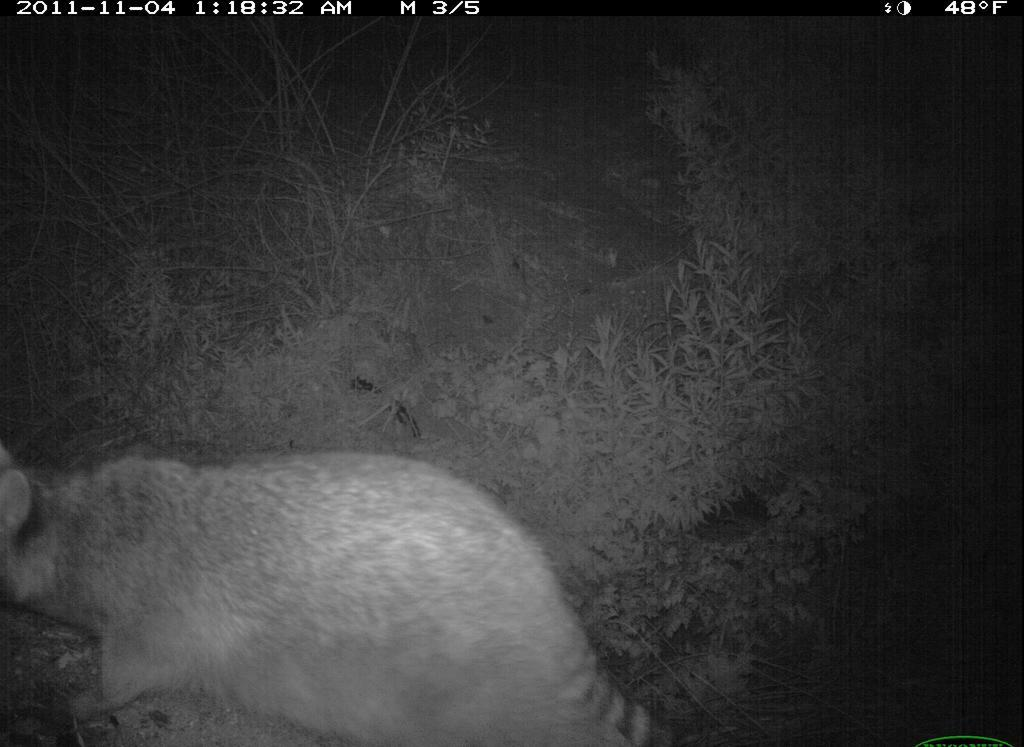raccoon: (4, 428, 685, 742)
